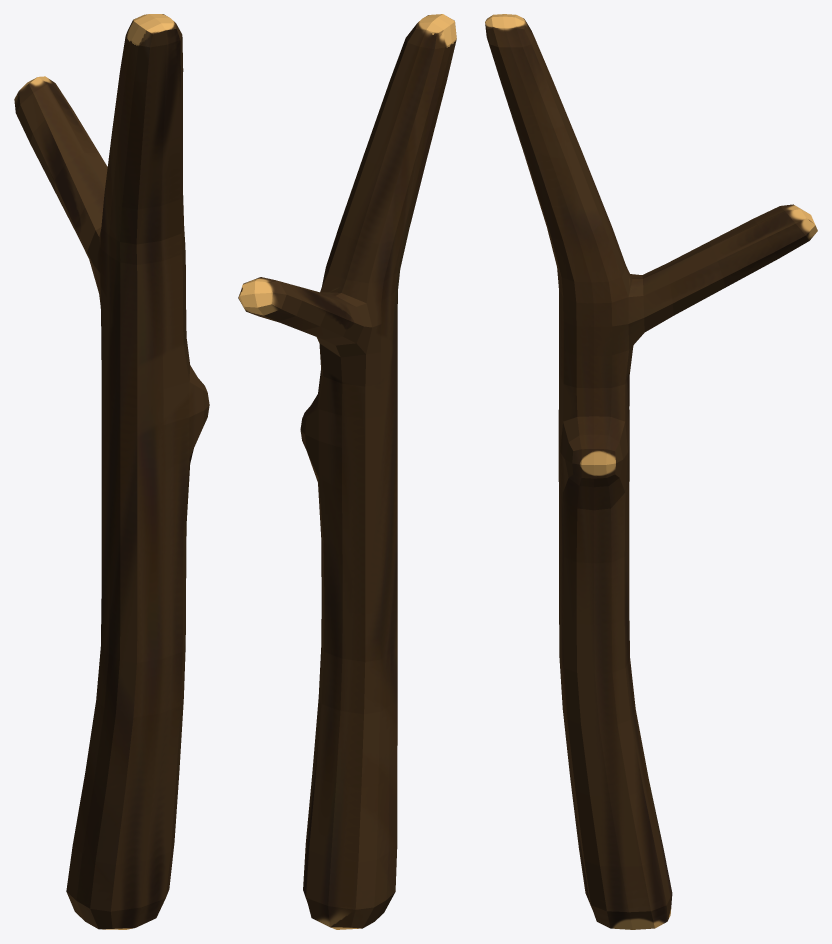
The model's file is branch.fbx.
3 views of the same model, side by side, from view 1: azimuth 30°, elevation 25°; view 2: azimuth 150°, elevation 25°; view 3: azimuth 270°, elevation 25° (orthographic). The views are drawn at different scales.
Parts seen in each view (by area): view 1: Cube; view 2: Cube; view 3: Cube.
Boxes of the visible parts, <box> form: Cube: <box>14,14,209,929</box>; Cube: <box>238,14,456,929</box>; Cube: <box>485,14,817,929</box>.
Bounding box in the file's own units: 337 × 2690 × 908.
